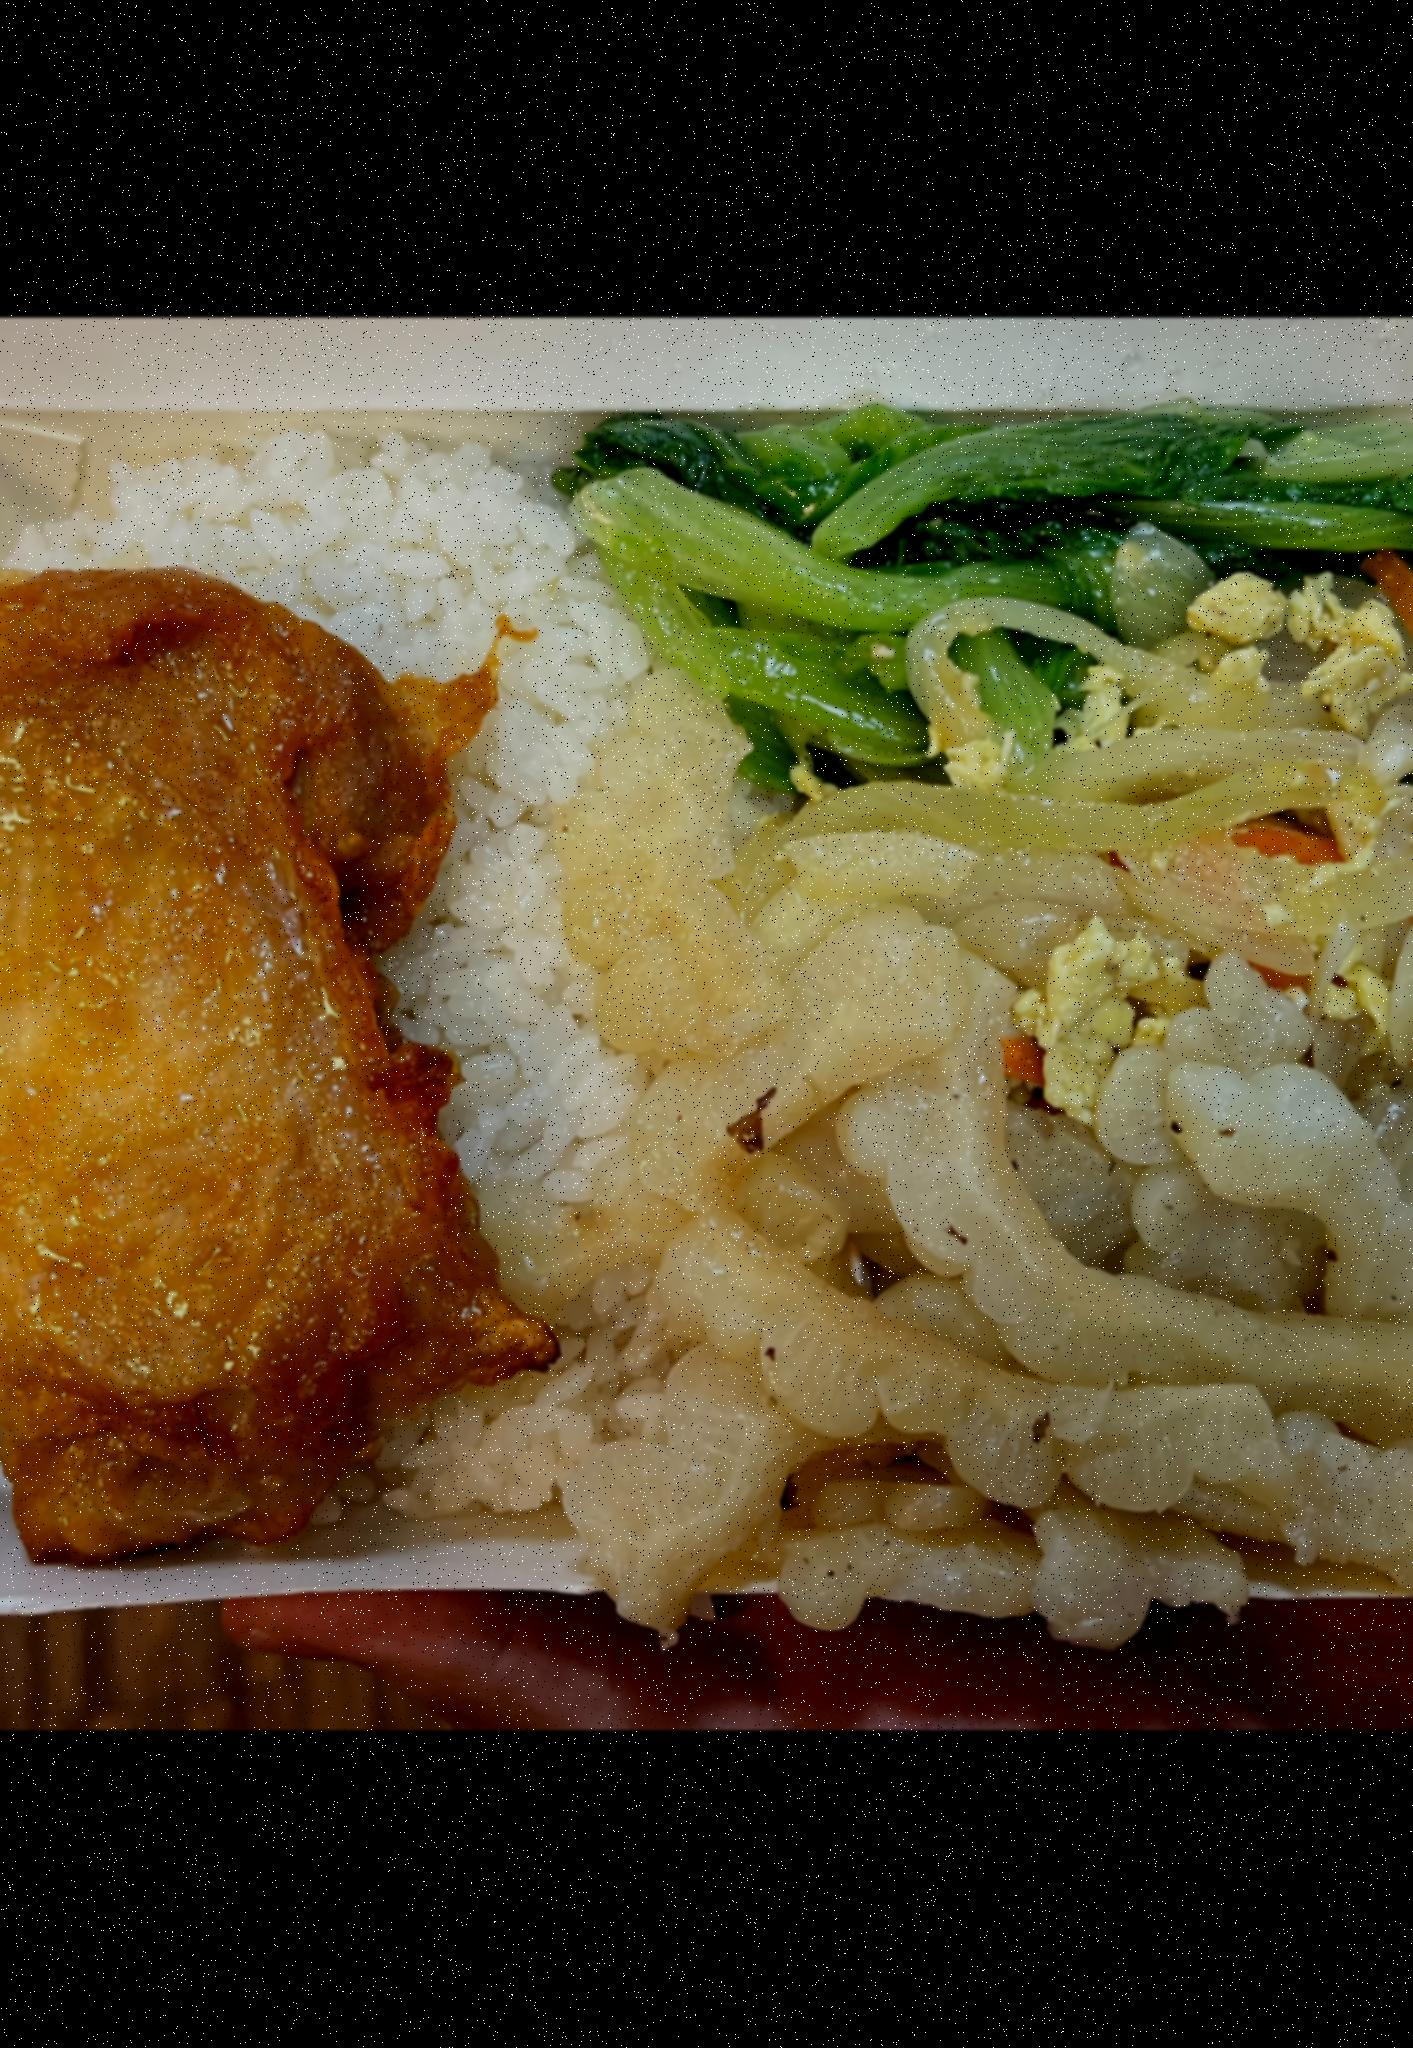box: (0, 363, 1413, 1659)
grilled chicken leg steak: (0, 579, 535, 1580)
side dish: (630, 1038, 1413, 1629), (574, 703, 1413, 1148), (615, 408, 1413, 805)
white rice: (0, 433, 668, 1558)
